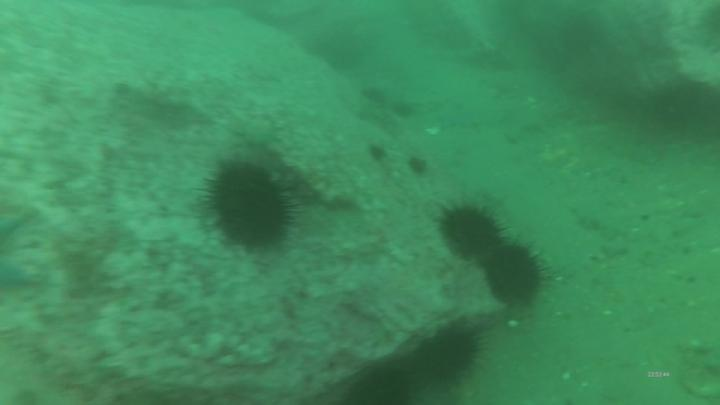echinus: (205, 166, 294, 250), (440, 210, 501, 258), (426, 330, 477, 384), (491, 246, 540, 302), (409, 156, 430, 175), (369, 143, 388, 163), (395, 103, 413, 121), (366, 87, 385, 104)
